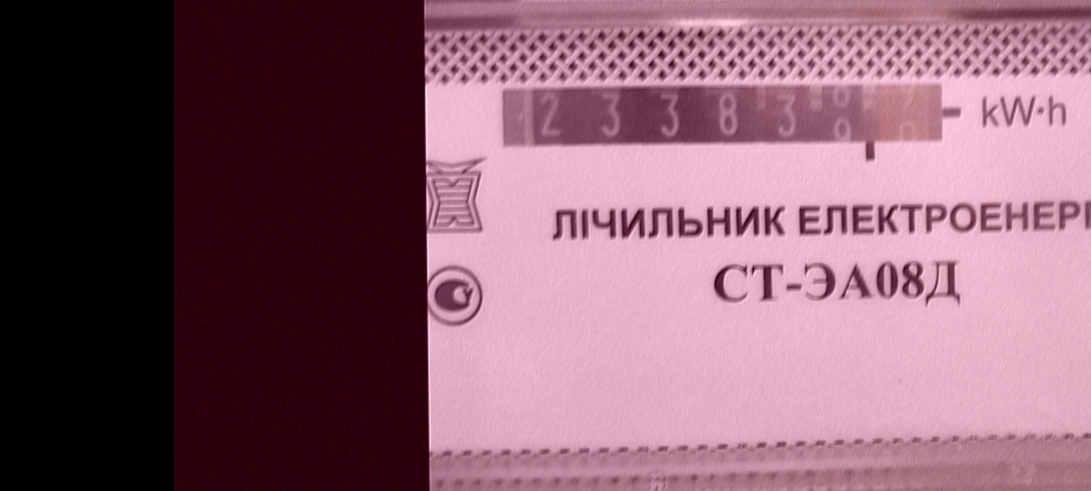0: (900, 119, 923, 145)
2: (542, 92, 566, 139)
3: (599, 90, 629, 139), (658, 91, 687, 140), (777, 92, 802, 138)
8: (717, 92, 745, 138), (833, 84, 857, 111)
9: (899, 82, 921, 112), (835, 116, 856, 145)
screen: (494, 74, 967, 169)
